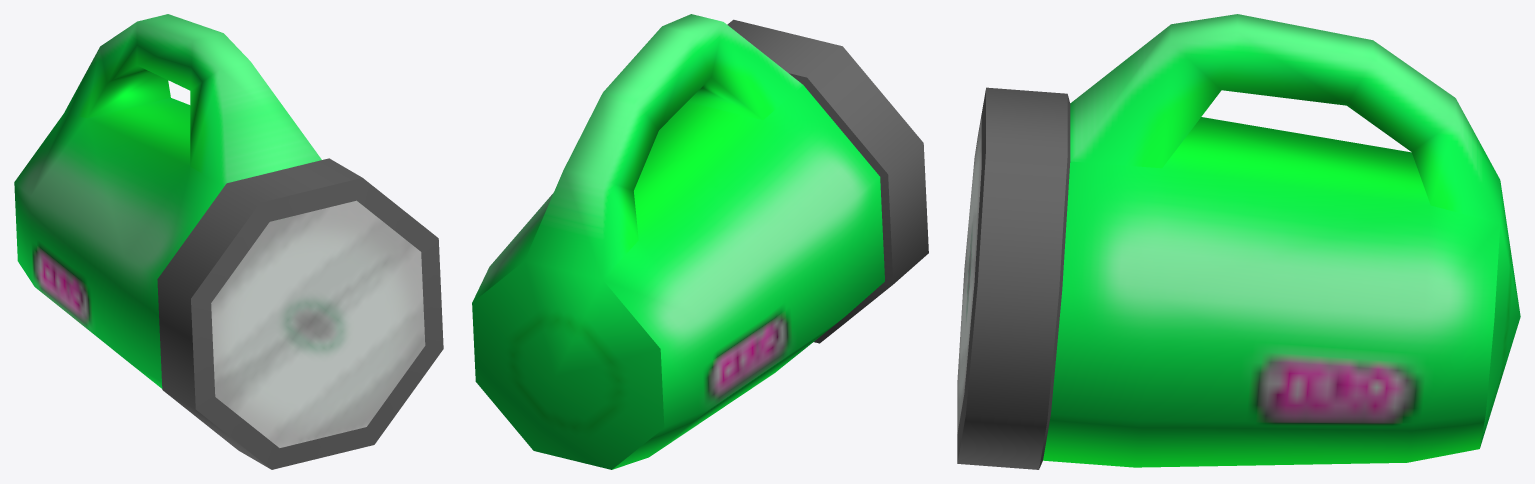
File: ZombieScannerMK1_ground.FBX
3 views of the same model, side by side, from view 1: azimuth 30°, elevation 25°; view 2: azimuth 150°, elevation 25°; view 3: azimuth 270°, elevation 25° (orthographic). The views are drawn at different scales.
Parts seen in each view (by area): view 1: FlashLight; view 2: FlashLight; view 3: FlashLight.
Part boxes in pixels (x1=…): FlashLight: x1=14, y1=14, x2=443, y2=469; FlashLight: x1=472, y1=14, x2=928, y2=469; FlashLight: x1=957, y1=14, x2=1520, y2=469.
Bounding box in the file's own units: 0.2766 × 0.3641 × 0.4467.
Materials: 1 (1 with a texture image).
